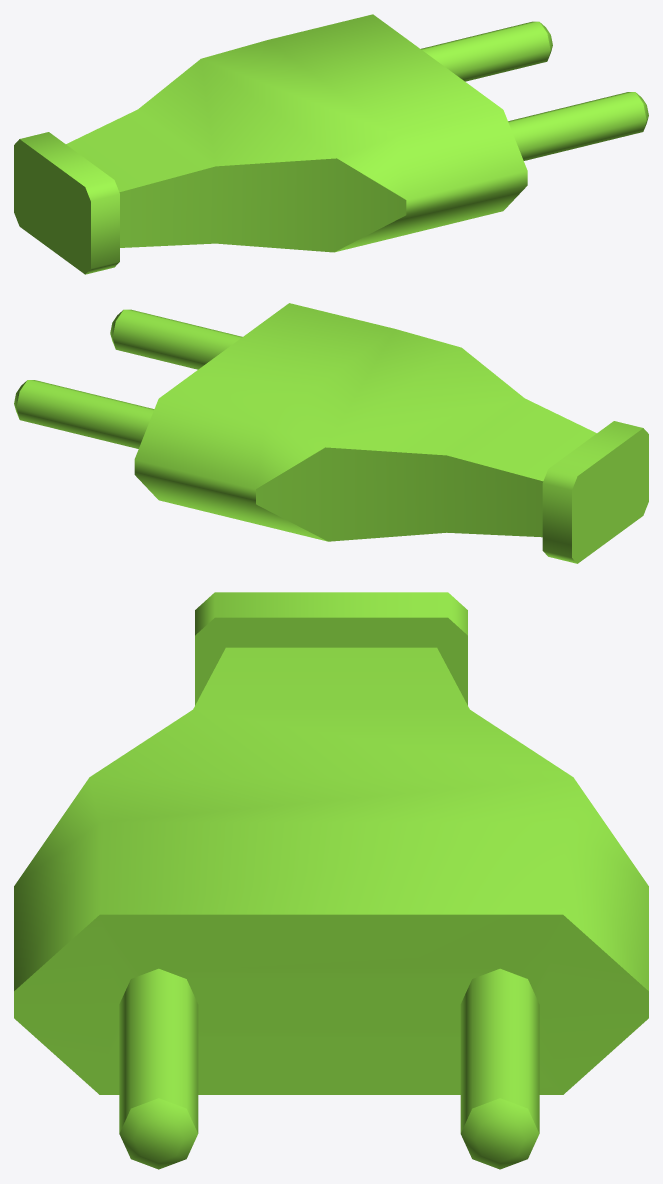
The model's file is SM_PowerA_1.fbx.
3 renders of one model, top to bottom at view 1: azimuth 30°, elevation 25°; view 2: azimuth 150°, elevation 25°; view 3: azimuth 270°, elevation 25°, orthographic. The views are drawn at different scales.
Visible parts, largest first — view 1: SM_PowerA_1; view 2: SM_PowerA_1; view 3: SM_PowerA_1.
Part boxes in pixels (<box>): SM_PowerA_1: <box>14,14,648,274</box>; SM_PowerA_1: <box>14,303,648,563</box>; SM_PowerA_1: <box>14,592,648,1169</box>.
Size of the model in its own units: 6 by 1.08 by 3.43.
